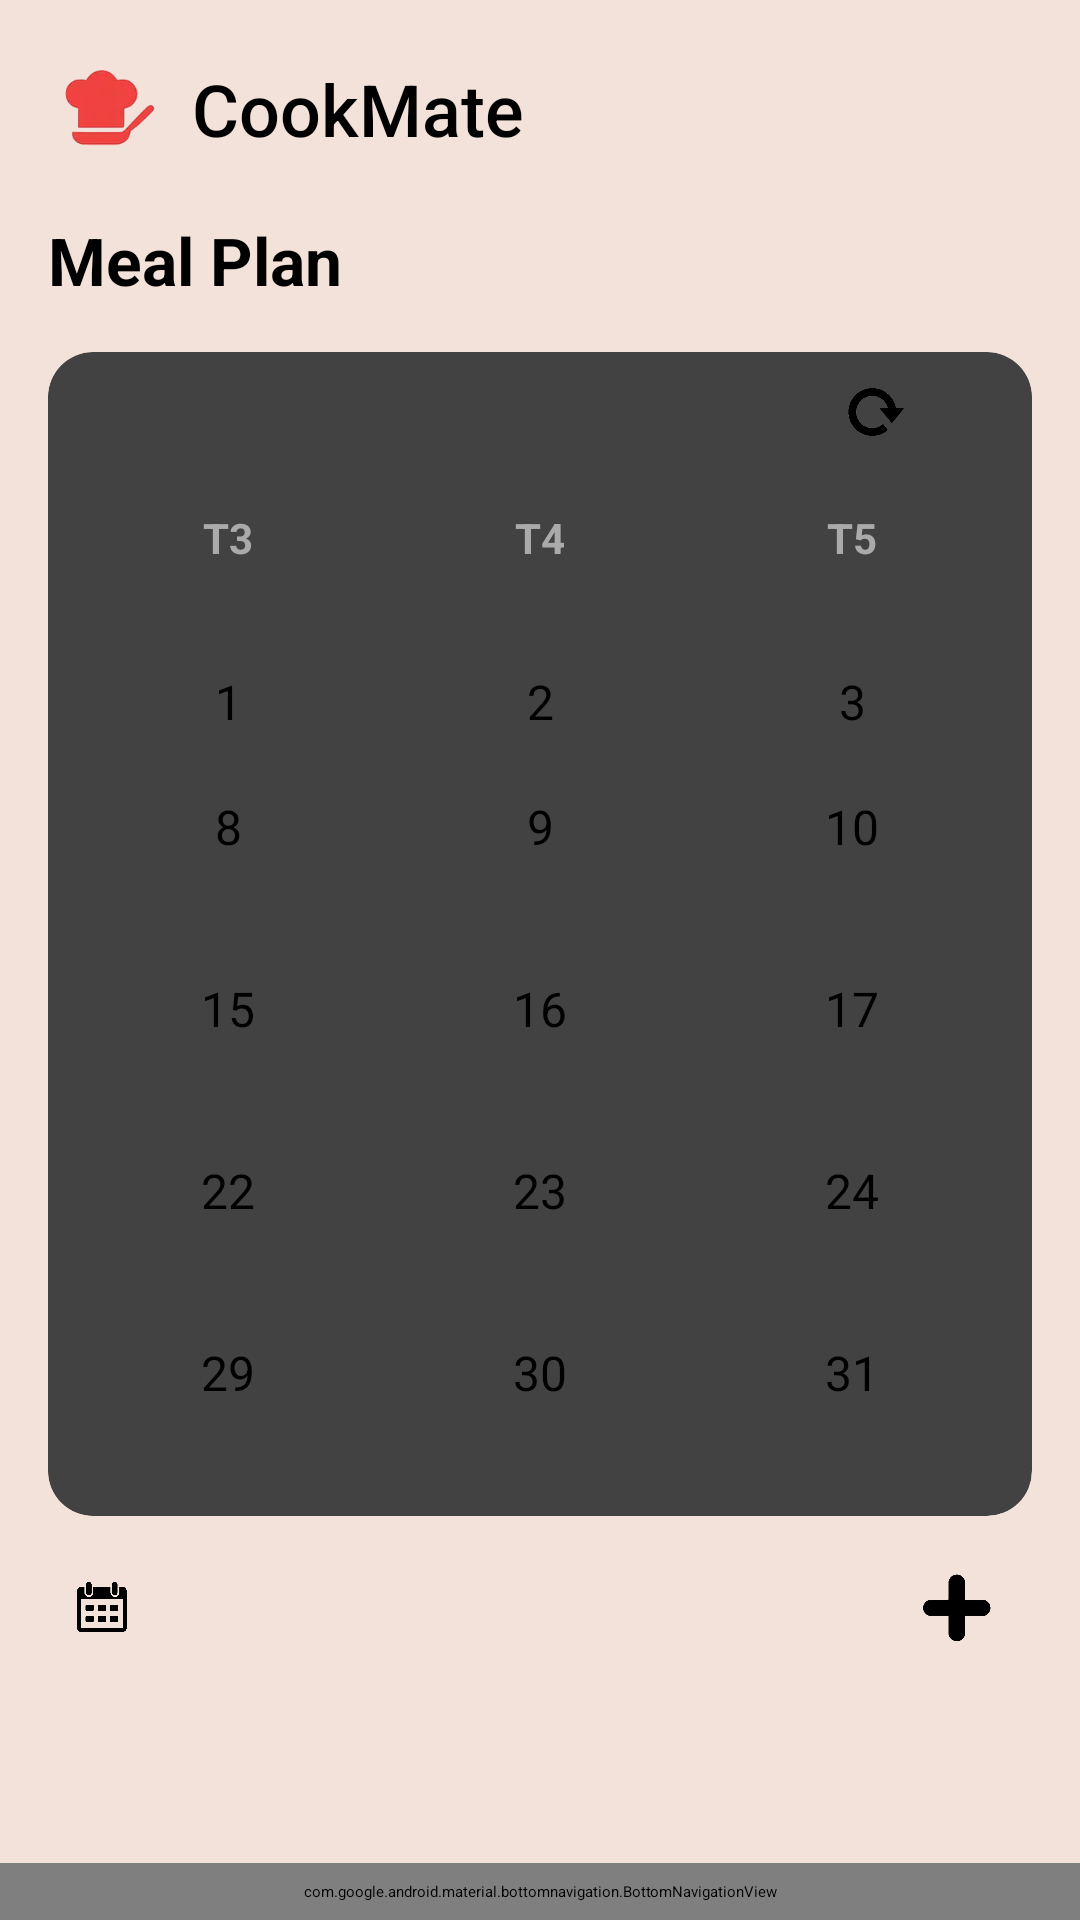

Locate icon controls on the screen. Image size 1080×1920, boxes as (x1, y1, x2, y2).
calendar: (77, 1582, 127, 1632)
reset: (848, 388, 904, 436)
